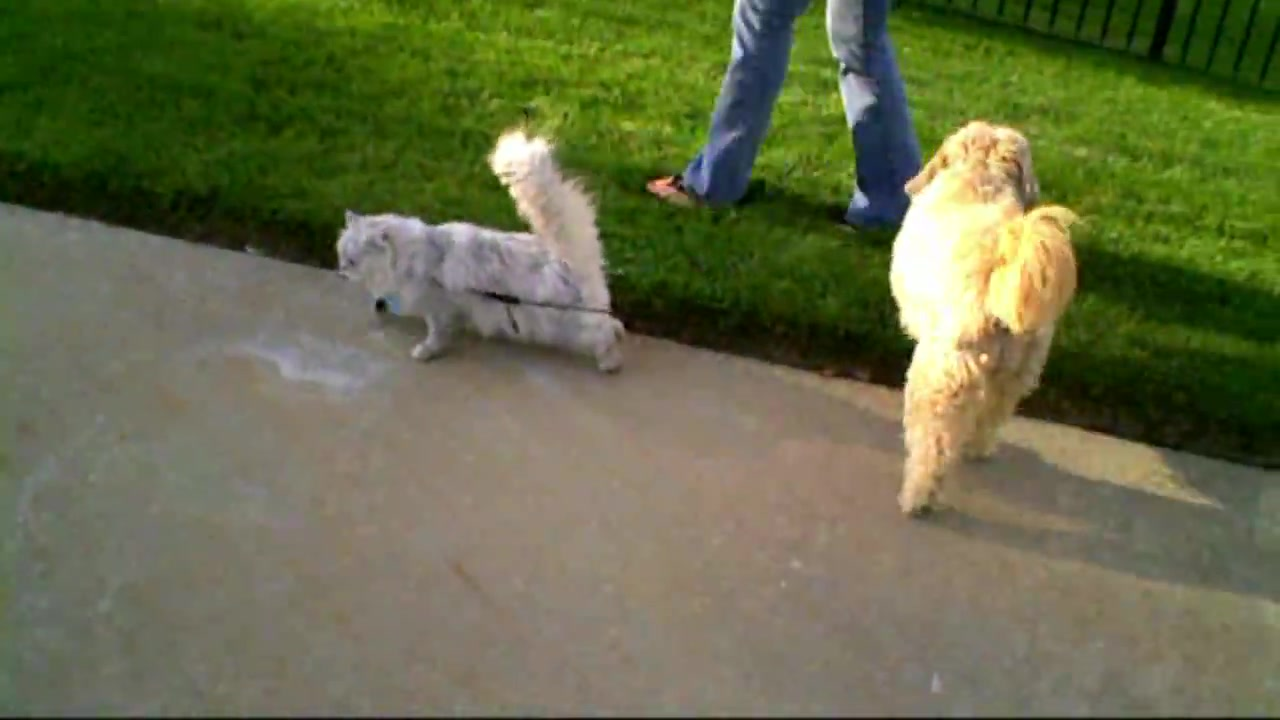dog: (891, 119, 1078, 524)
